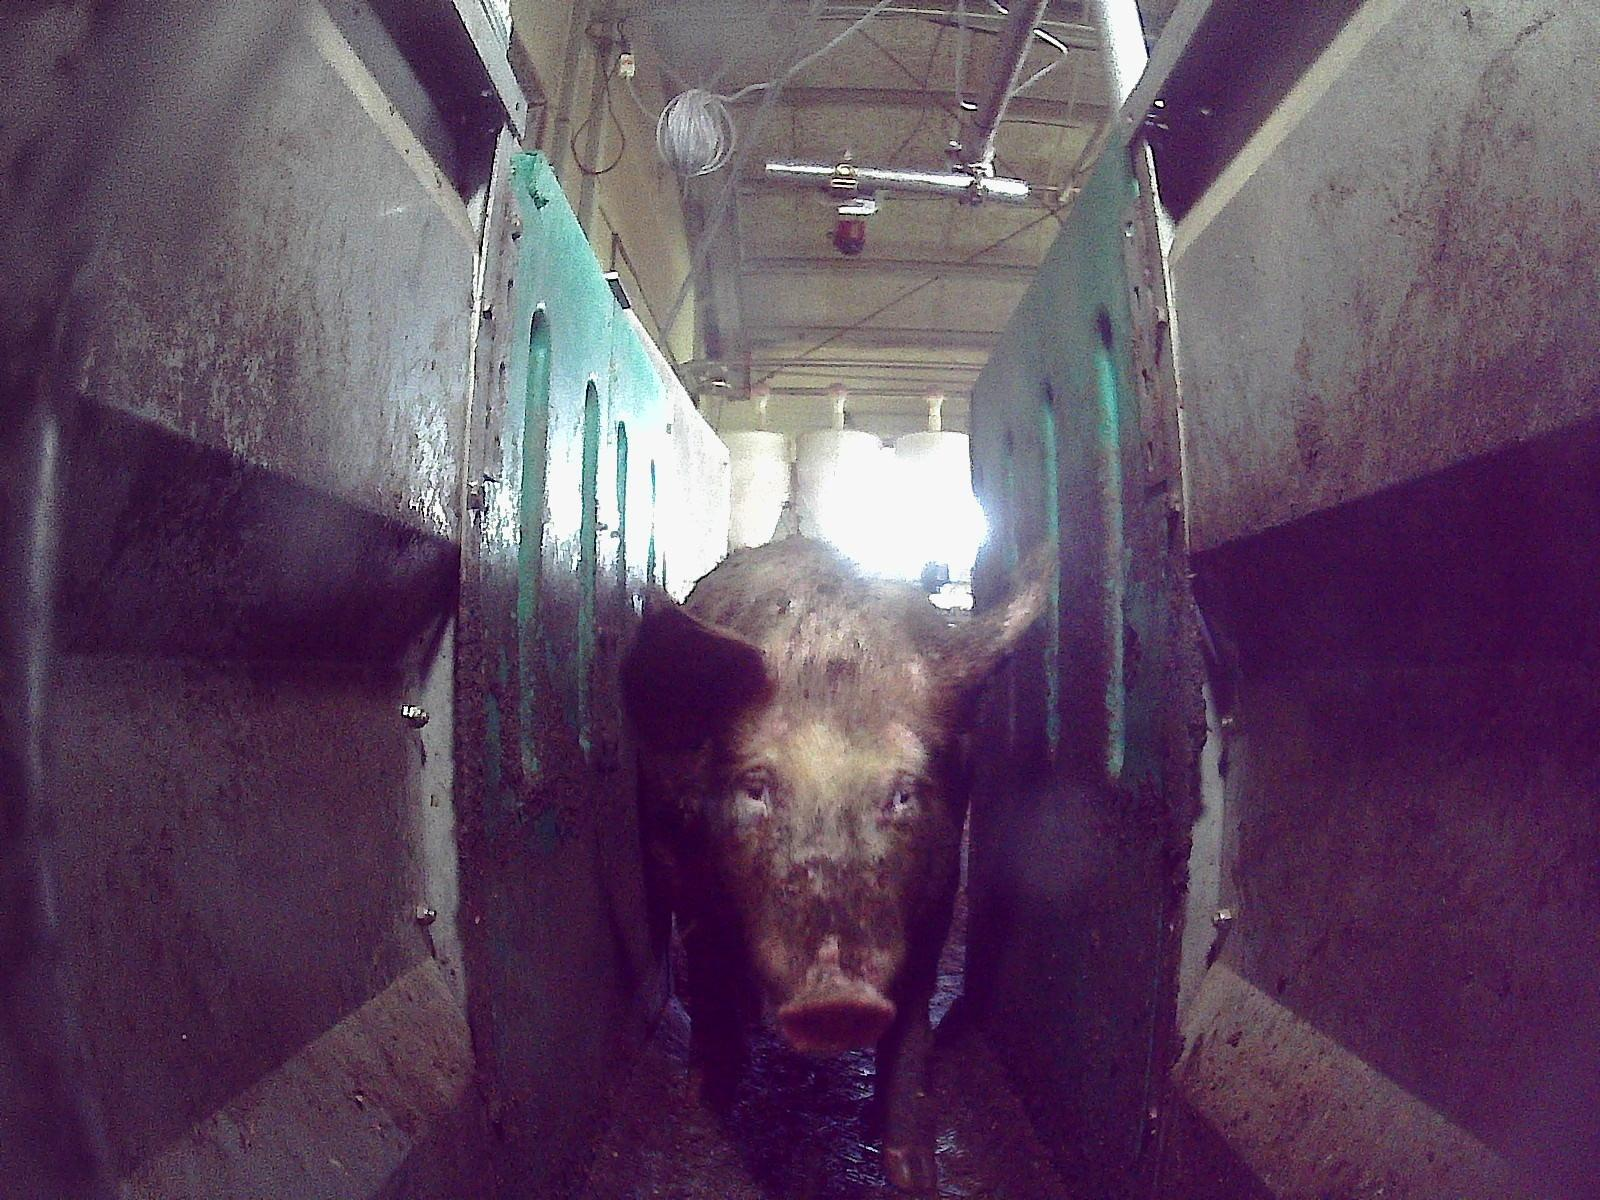Face: (720, 672, 923, 1054)
